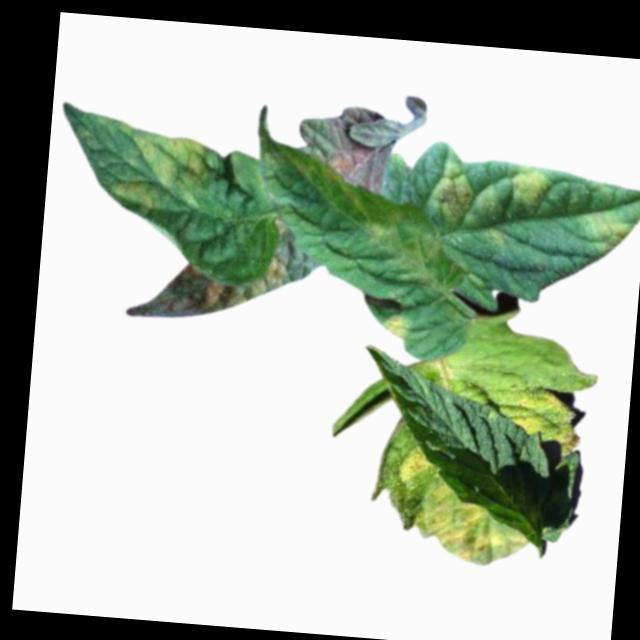Leaf_Mold: (121, 215, 322, 332), (391, 445, 535, 571), (106, 121, 217, 217), (293, 101, 399, 197), (511, 388, 588, 453), (430, 159, 486, 234), (505, 160, 557, 213), (586, 211, 637, 255), (384, 309, 413, 344)
